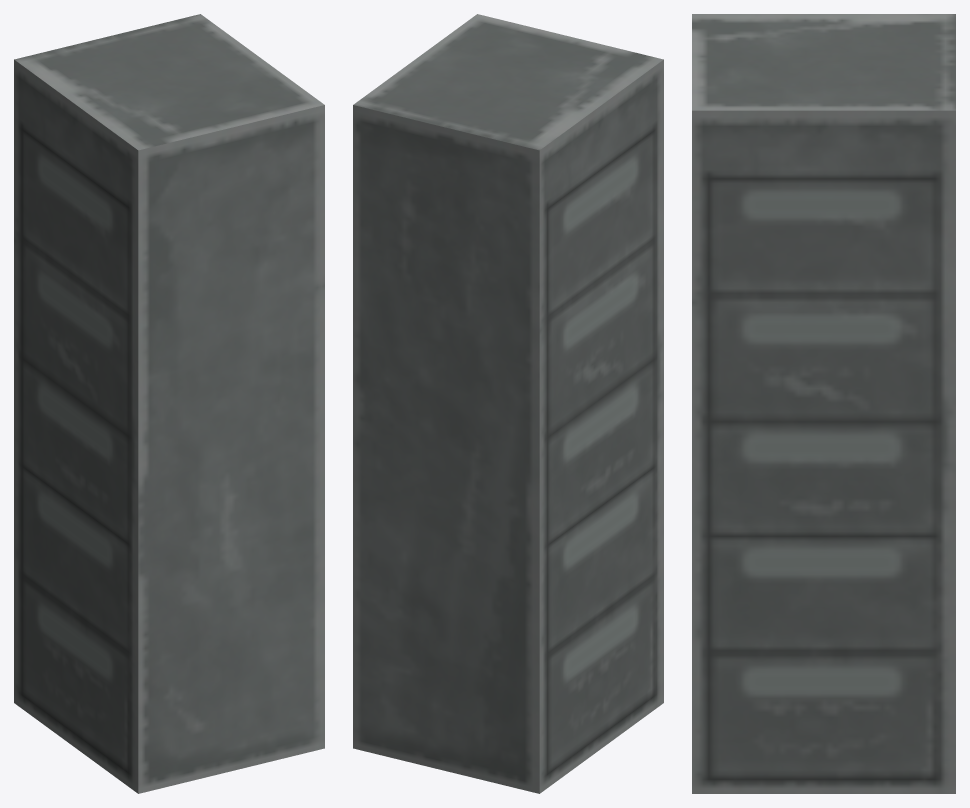
Rendered from MESH_ARMARIO.fbx.
The picture shows the model from 3 angles, left to right: view 1: azimuth 30°, elevation 25°; view 2: azimuth 150°, elevation 25°; view 3: azimuth 270°, elevation 25°; orthographic projection. The views are drawn at different scales.
Parts seen in each view (by area): view 1: MESH_ARMARIO; view 2: MESH_ARMARIO; view 3: MESH_ARMARIO.
Boxes of the visible parts, x1,y1,x2,y2 form: MESH_ARMARIO: (14,14,324,793); MESH_ARMARIO: (353,14,663,793); MESH_ARMARIO: (692,14,955,793).
Bounding box in the file's own units: 0.455 × 1.5 × 0.525.
